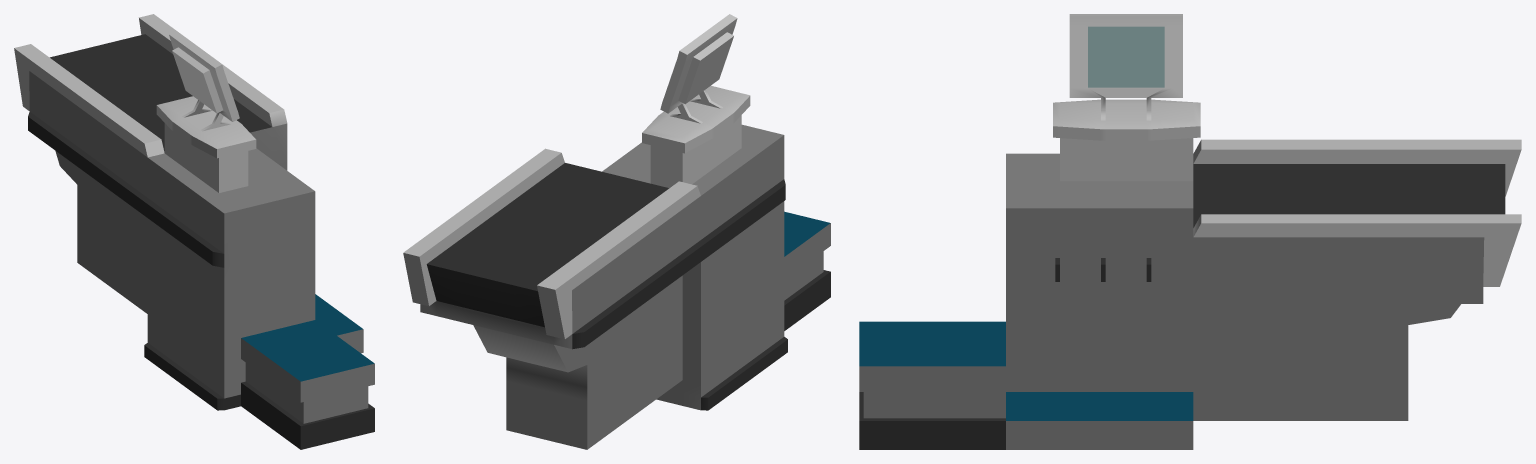
Rendered from CheckoutCounter.fbx.
3 renders of one model, left to right at view 1: azimuth 30°, elevation 25°; view 2: azimuth 150°, elevation 25°; view 3: azimuth 270°, elevation 25°, orthographic. The views are drawn at different scales.
Parts seen in each view (by area): view 1: CheckoutCounter; view 2: CheckoutCounter; view 3: CheckoutCounter.
Part boxes in pixels (x1,y1,x2,y2): CheckoutCounter: [14, 14, 374, 449]; CheckoutCounter: [403, 14, 830, 449]; CheckoutCounter: [859, 14, 1521, 449].
Size of the model in its own units: 58.42 by 123 by 187.
